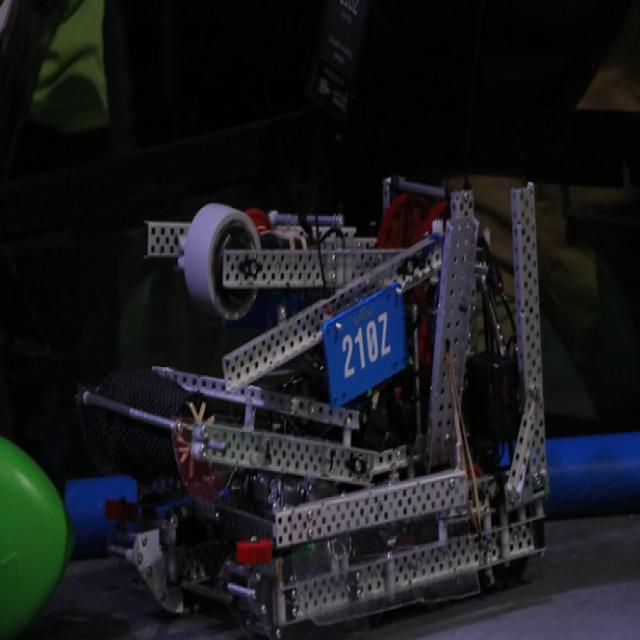License-Plates: (325, 280, 407, 409)
